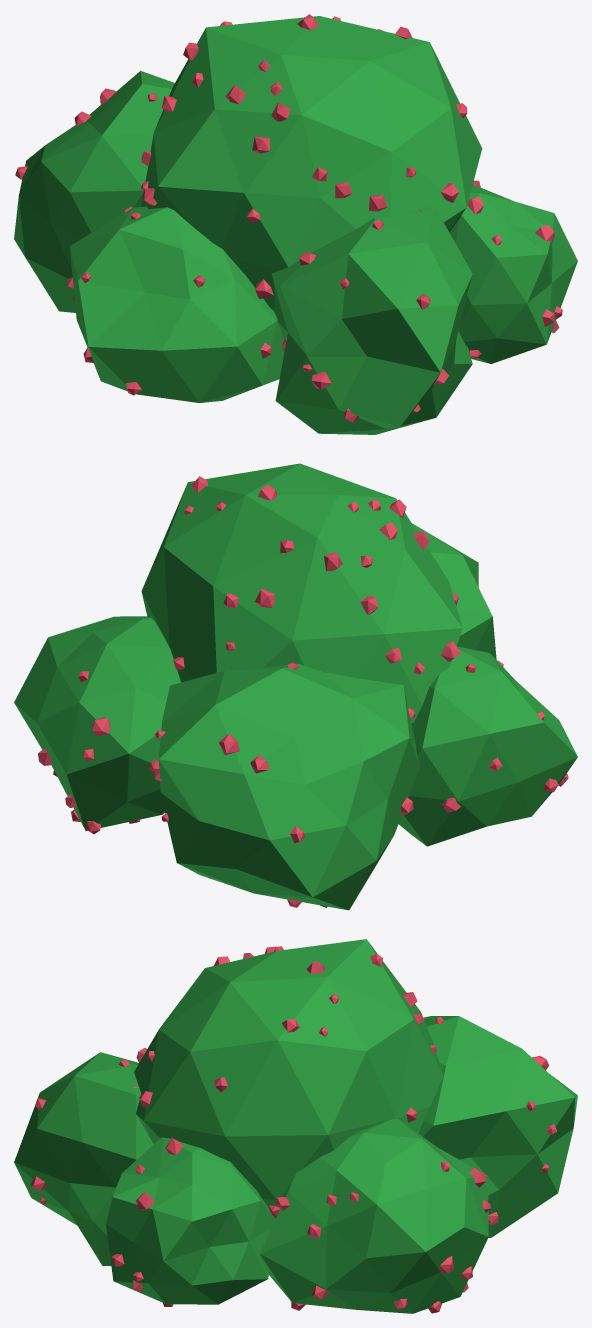
File: bush.fbx
The picture shows the model from 3 angles, top to bottom: view 1: azimuth 30°, elevation 25°; view 2: azimuth 150°, elevation 25°; view 3: azimuth 270°, elevation 25°; orthographic projection. The views are drawn at different scales.
Visible parts, largest first — view 1: Icosphere, Icosphere.003, Icosphere.004, Icosphere.005, Icosphere.002; view 2: Icosphere, Icosphere.005, Icosphere.001, Icosphere.004, Icosphere.003; view 3: Icosphere, Icosphere.001, Icosphere.002, Icosphere.005, Icosphere.003.
Boxes of the visible parts, left/top/right/bottom form: Icosphere: left=141, top=16, right=482, bottom=310; Icosphere.003: left=272, top=206, right=472, bottom=434; Icosphere.004: left=69, top=206, right=284, bottom=402; Icosphere.005: left=14, top=71, right=174, bottom=312; Icosphere.002: left=449, top=184, right=577, bottom=363; Icosphere: left=141, top=463, right=462, bottom=724; Icosphere.005: left=158, top=663, right=419, bottom=910; Icosphere.001: left=14, top=616, right=180, bottom=830; Icosphere.004: left=398, top=646, right=577, bottom=846; Icosphere.003: left=412, top=523, right=496, bottom=659; Icosphere: left=134, top=939, right=443, bottom=1219; Icosphere.001: left=259, top=1118, right=488, bottom=1313; Icosphere.002: left=106, top=1137, right=275, bottom=1304; Icosphere.005: left=419, top=1016, right=577, bottom=1237; Icosphere.003: left=14, top=1052, right=153, bottom=1265.
Size of the model in its own units: 286 by 204 by 329.
